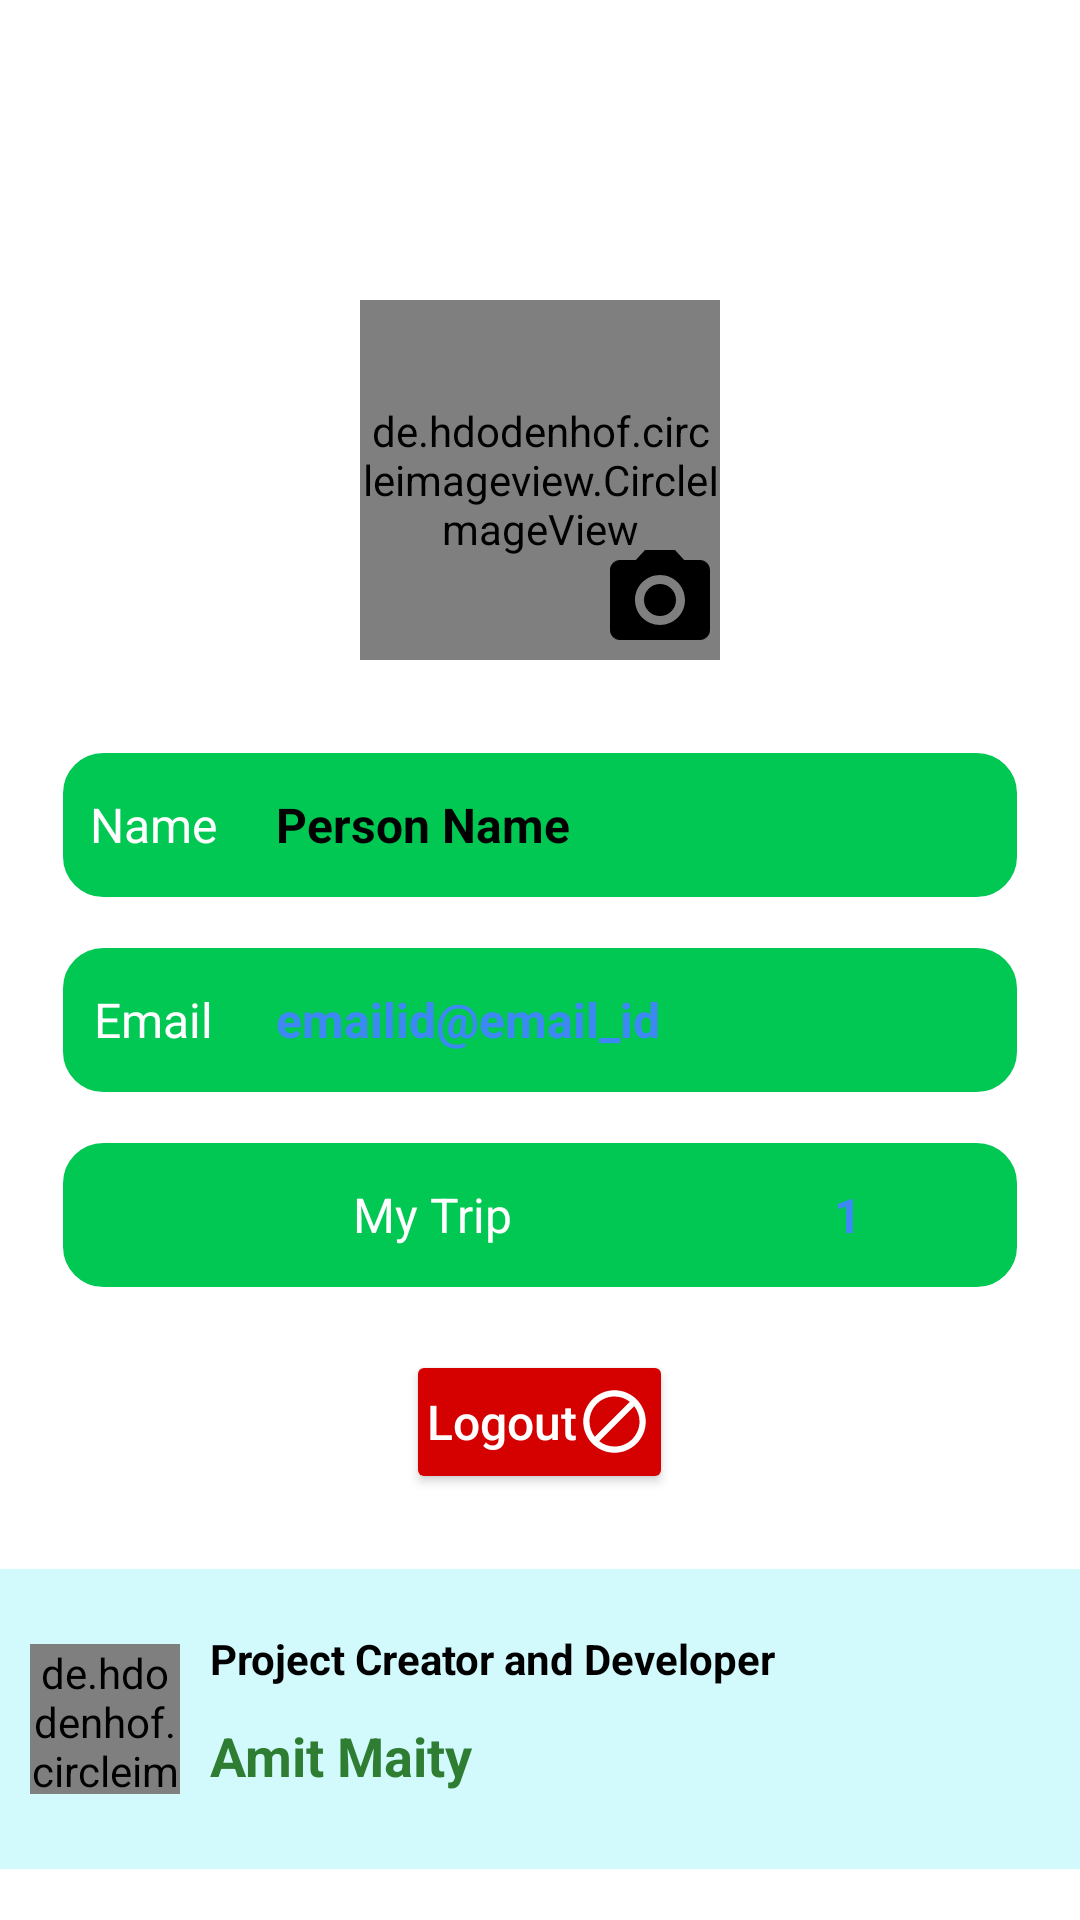

Named icons in this screenshot (1080px×1920px) and their bounding boxes, (x1, y1, x2, y2):
camera: (610, 550, 710, 640)
